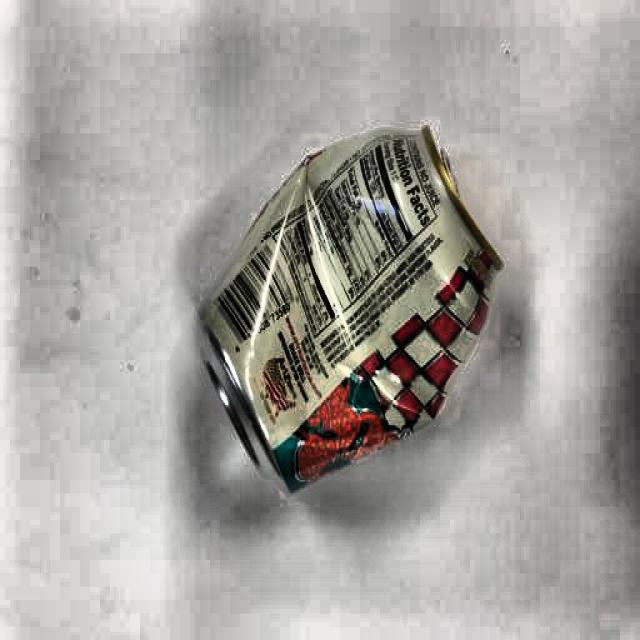metal: (200, 117, 499, 491)
